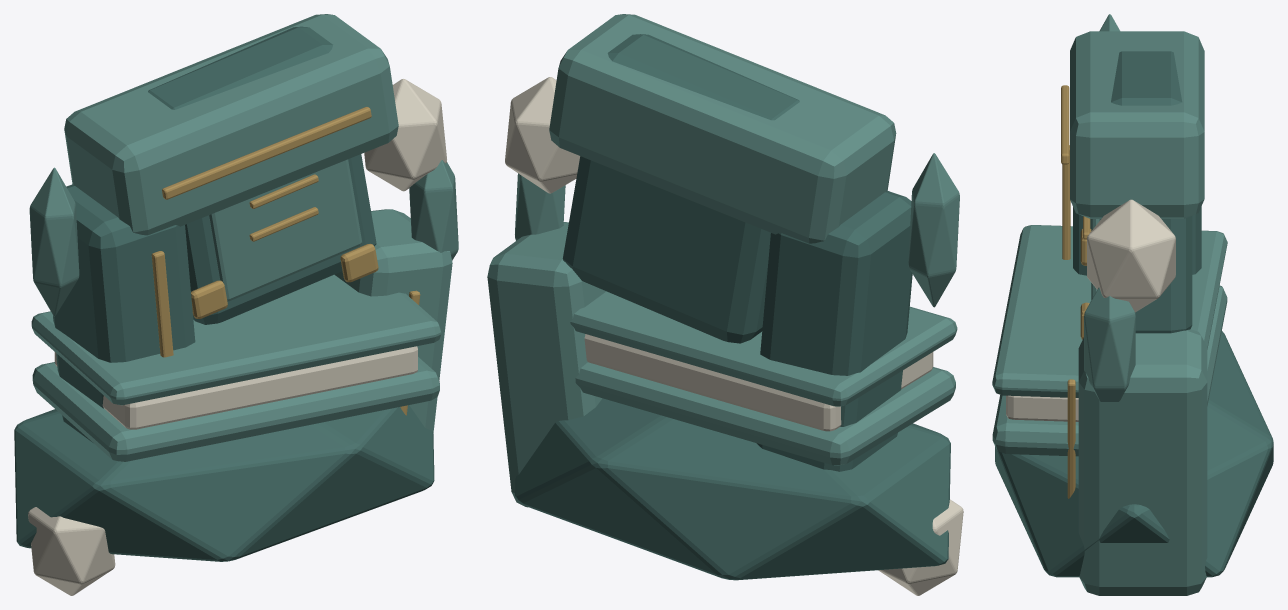
File: archivio.glb
The picture shows the model from 3 angles, left to right: view 1: azimuth 30°, elevation 25°; view 2: azimuth 150°, elevation 25°; view 3: azimuth 270°, elevation 25°; orthographic projection. The views are drawn at different scales.
Visible parts, largest first — view 1: right_jade, right_teal, left_jade, left_teal, left_paper, right_paper, left_brass, right_brass; view 2: right_teal, left_jade, right_jade, left_teal, right_paper, left_paper; view 3: left_jade, right_teal, right_jade, left_paper, left_brass, right_paper, left_teal, right_brass.
Part boxes in pixels (x1,y1,x2,y2): right_jade: (29,159,458,461); right_teal: (14,26,434,561); left_jade: (64,14,452,433); left_teal: (53,184,195,442); left_paper: (28,79,446,595); right_paper: (54,346,417,429); left_brass: (151,107,420,415); right_brass: (191,174,378,318); right_teal: (515,34,950,580); left_jade: (487,14,896,507); right_jade: (515,153,959,465); left_teal: (756,190,912,471); right_paper: (584,334,933,431); left_paper: (505,77,963,595); left_jade: (1070,31,1207,595); right_teal: (995,51,1273,577); right_jade: (992,14,1227,456); left_paper: (1087,199,1175,312); left_brass: (1061,85,1075,498); right_paper: (1006,395,1078,421); left_teal: (1073,206,1201,275); right_brass: (1080,216,1091,339).
Size of the model in its own units: 0.9152 by 0.9944 by 0.5151.
